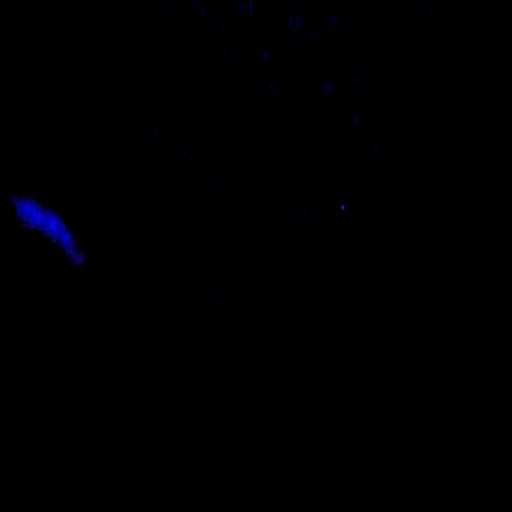object-detection-project: (14, 198, 84, 265)
